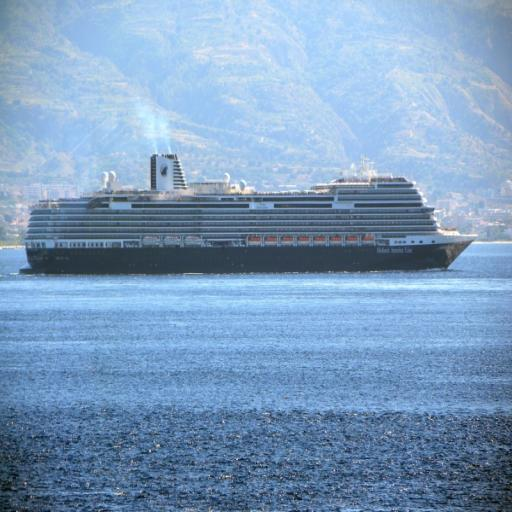cruises: (18, 149, 477, 285)
